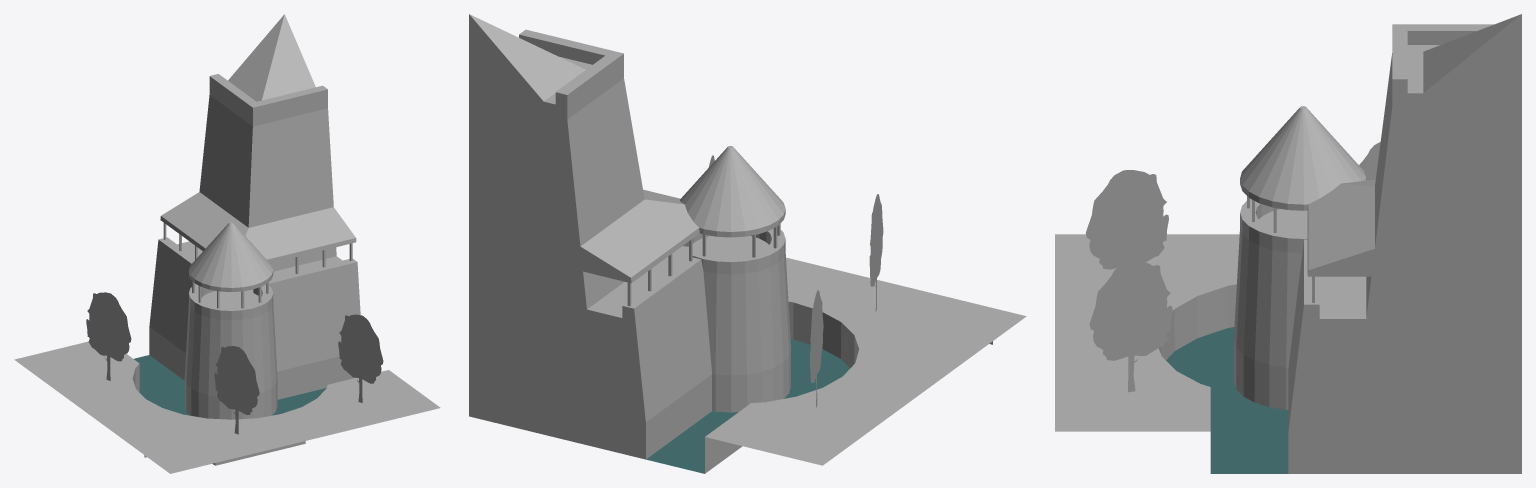
The model's file is wcwr.obj.
3 views of the same model, side by side, from view 1: azimuth 30°, elevation 25°; view 2: azimuth 150°, elevation 25°; view 3: azimuth 270°, elevation 25° (orthographic). The views are drawn at different scales.
Parts seen in each view (by area): view 1: wcwr; view 2: wcwr; view 3: wcwr.
Boxes of the visible parts, bbox=[...] form: wcwr: bbox=[14, 14, 440, 473]; wcwr: bbox=[469, 14, 1026, 473]; wcwr: bbox=[1055, 14, 1521, 473].
Bounding box in the file's own units: 30 × 32.63 × 30.
